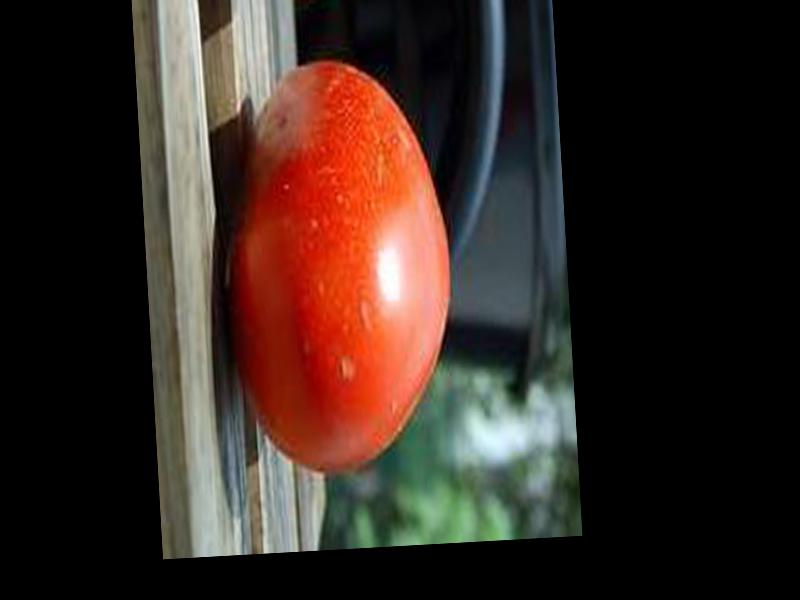Tomato: (220, 55, 462, 479)
